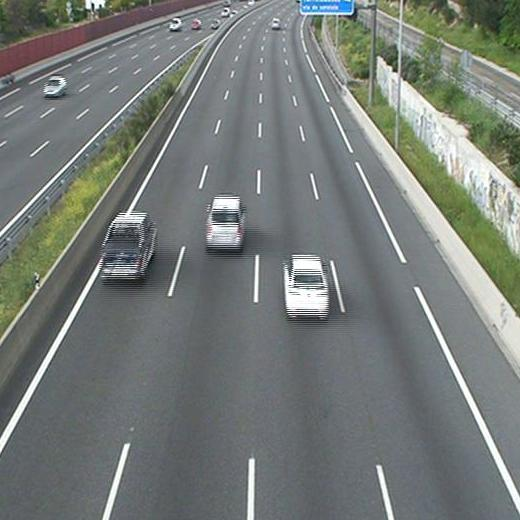car: (102, 213, 156, 278), (284, 255, 329, 316), (206, 197, 244, 248), (270, 19, 281, 29)
